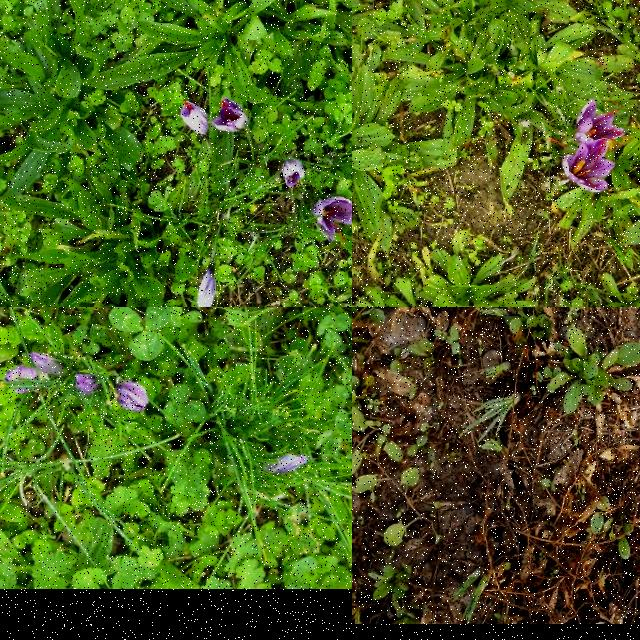flower: (562, 138, 614, 194), (574, 99, 628, 143), (314, 197, 352, 242), (214, 98, 248, 134), (182, 100, 210, 138), (116, 382, 150, 412), (265, 454, 309, 474), (197, 266, 217, 307), (283, 158, 305, 188), (74, 374, 102, 394)
overlap: (5, 352, 66, 396)
